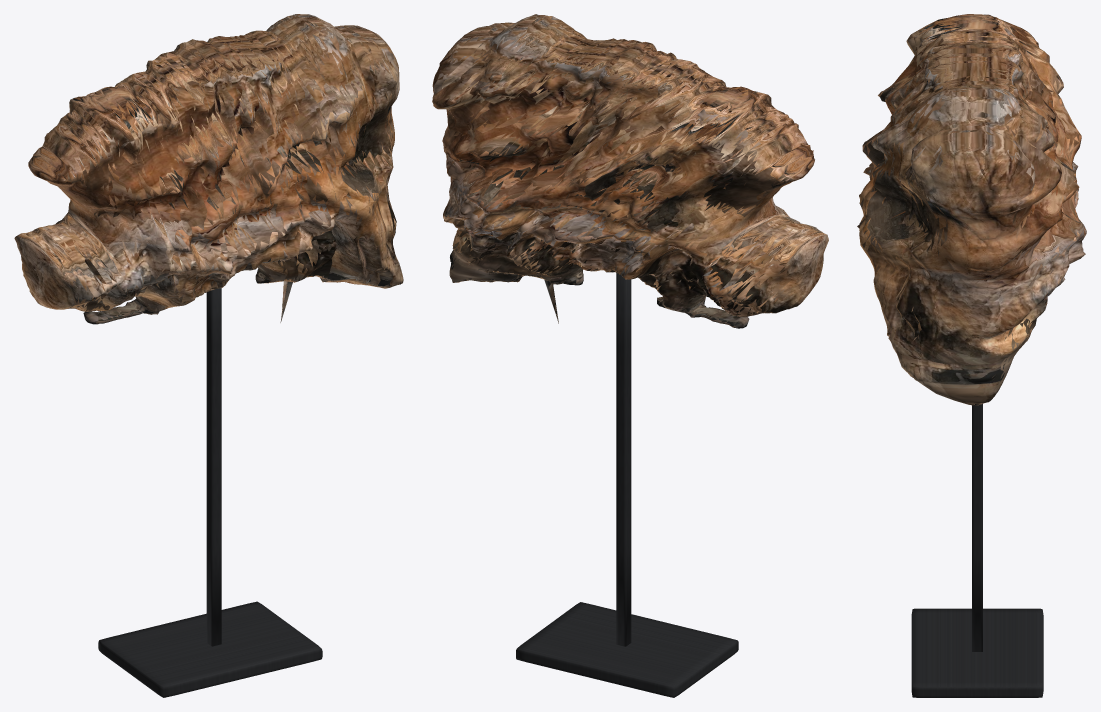
Rendered from hy3d-esc-038.glb.
The picture shows the model from 3 angles, left to right: view 1: azimuth 30°, elevation 25°; view 2: azimuth 150°, elevation 25°; view 3: azimuth 270°, elevation 25°; orthographic projection.
Parts seen in each view (by area): view 1: world; view 2: world; view 3: world.
Boxes of the visible parts, x1,y1,x2,y2 form: world: [14, 14, 403, 697]; world: [432, 14, 828, 697]; world: [857, 14, 1086, 697].
Size of the model in its own units: 0.38 by 0.6176 by 0.2085.
Materials: 1 (1 with a texture image).
